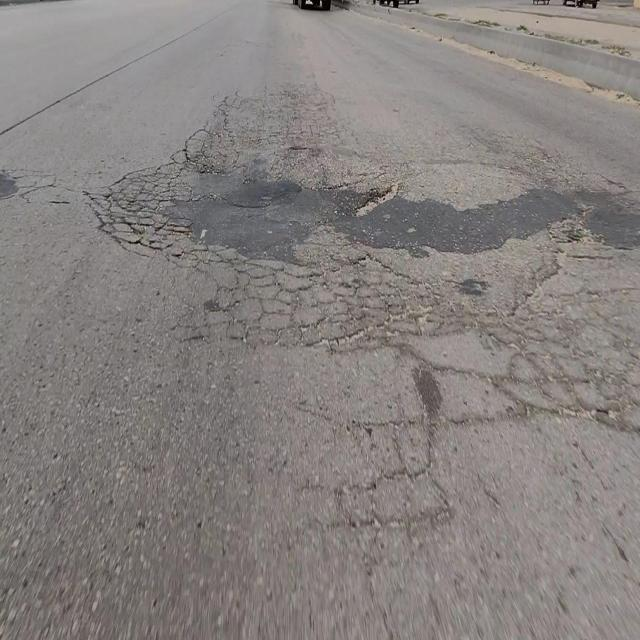Potholes: (95, 148, 217, 247), (351, 179, 401, 225)
